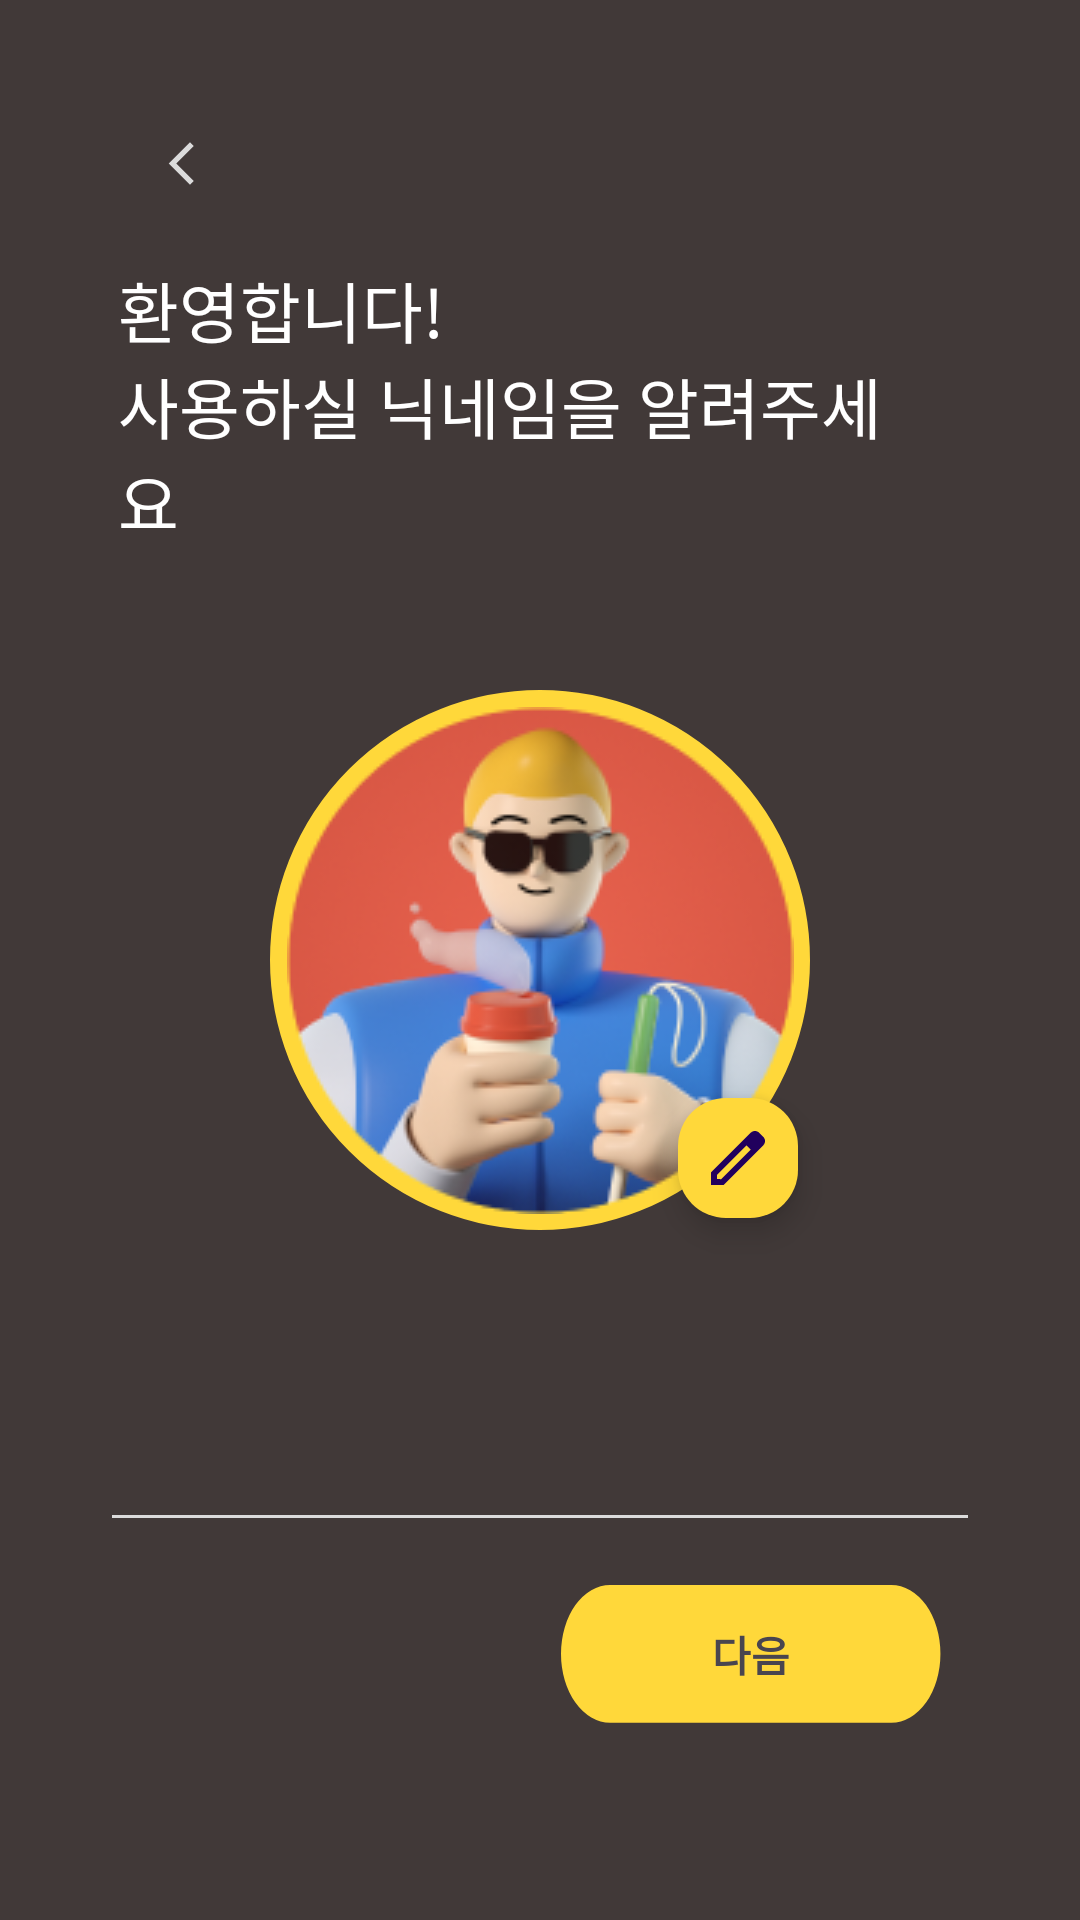

Where icons sit on this 1080x1920 app screen, as (x1, y1, x2, y2):
arrow left: (169, 142, 194, 185)
